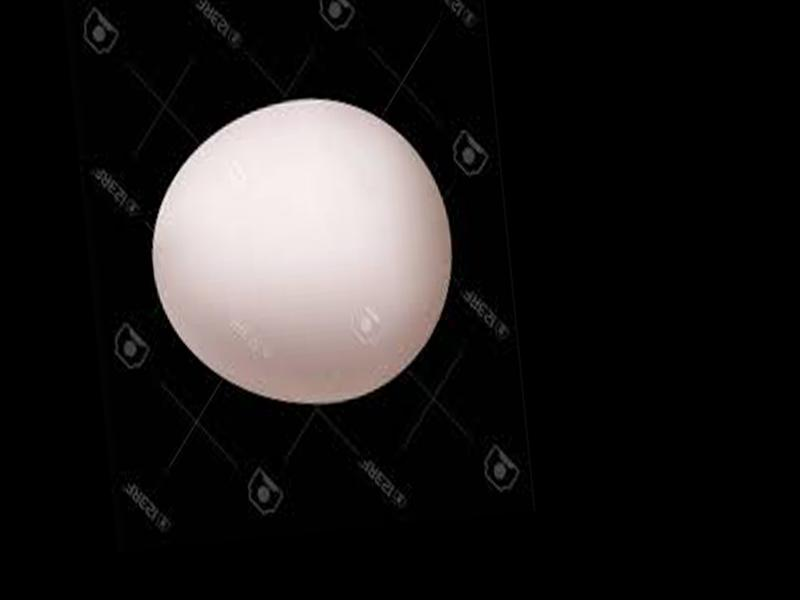Eggs: (140, 87, 463, 414)
